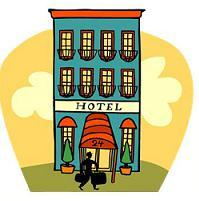person: (78, 150, 104, 193)
pottedplant: (56, 136, 76, 174), (117, 142, 134, 177)
